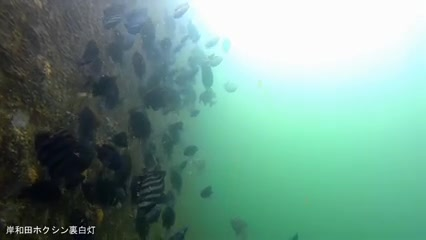smallfish: (195, 182, 218, 202)
